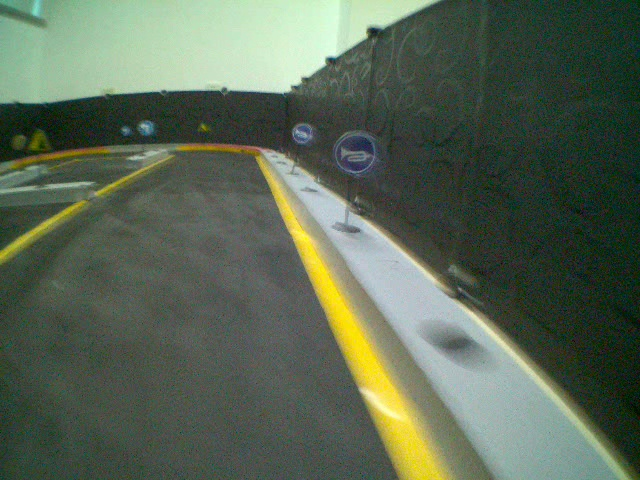fast: (27, 128, 52, 154)
horn: (332, 129, 376, 173), (288, 122, 315, 144)
turn: (137, 118, 155, 136)
